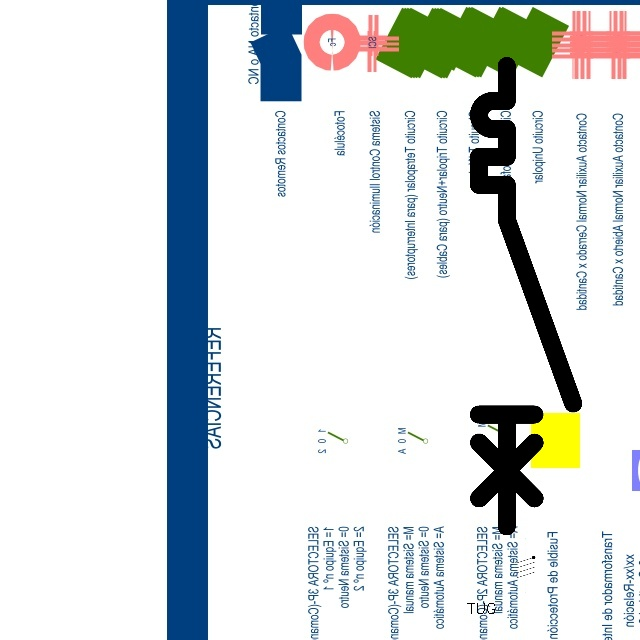interruptor_termomagnetico: (467, 54, 585, 538)
